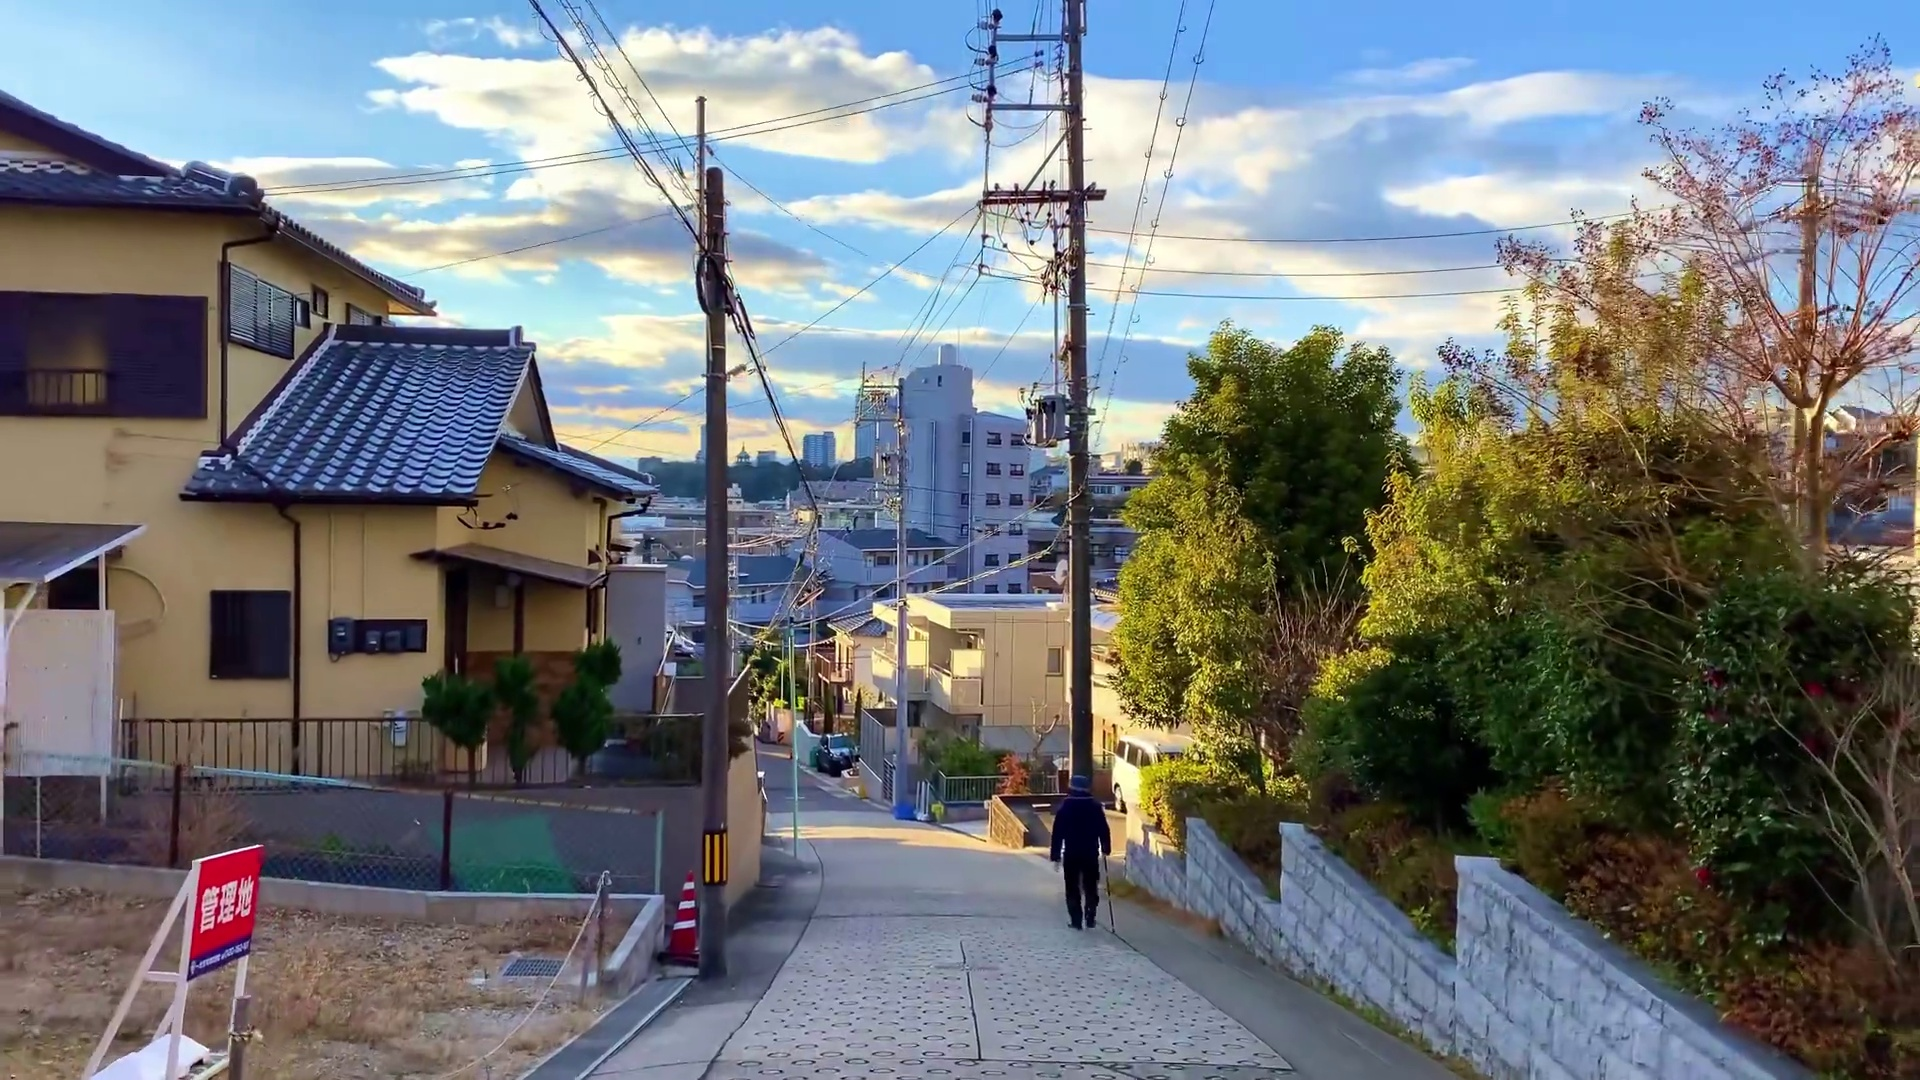person: (1052, 774, 1113, 931)
